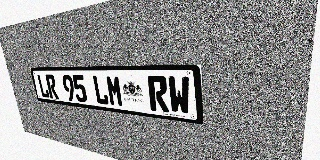5: (72, 75, 88, 103)
9: (61, 75, 77, 101)
L: (92, 75, 109, 105), (36, 74, 50, 98)
M: (105, 75, 124, 107)
R: (147, 76, 169, 113), (45, 74, 59, 99)
W: (167, 76, 191, 115)
